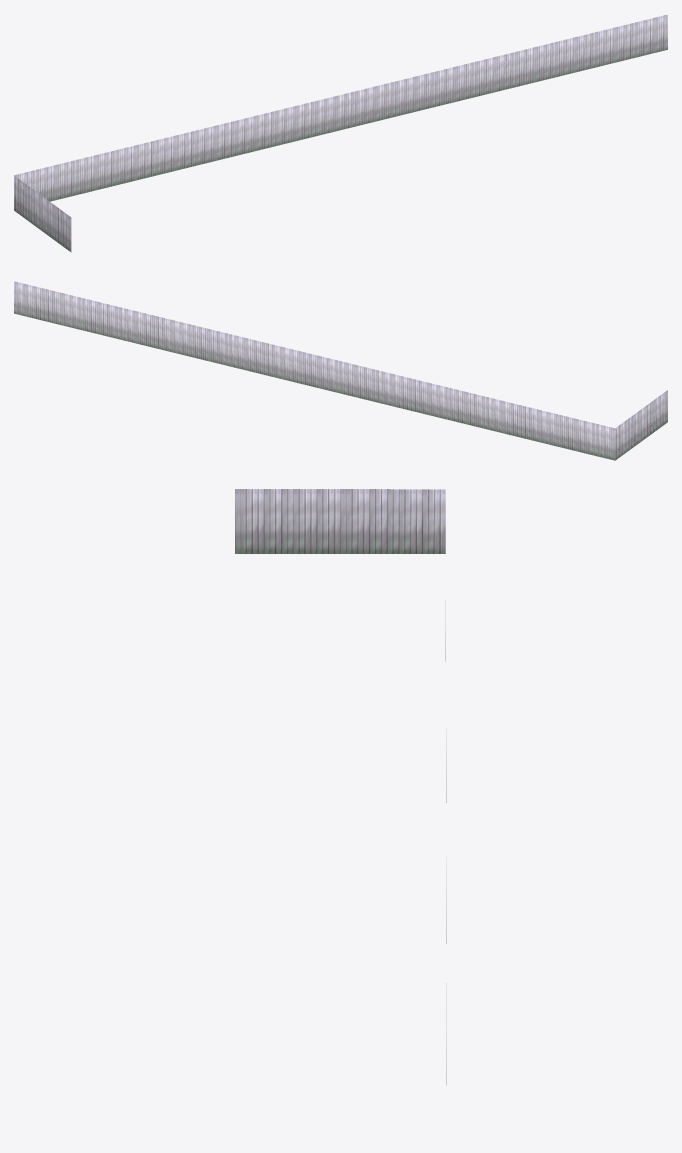
File: wall01.glb
3 views of the same model, one above another, from view 1: azimuth 30°, elevation 25°; view 2: azimuth 150°, elevation 25°; view 3: azimuth 270°, elevation 25° (orthographic). The views are drawn at different scales.
Visible parts, largest first — view 1: wall01; view 2: wall01; view 3: wall01.
Part boxes in pixels (x1=…): wall01: x1=14, y1=14, x2=667, y2=252; wall01: x1=14, y1=281, x2=667, y2=460; wall01: x1=235, y1=489, x2=446, y2=1084.
Size of the model in its own units: 5668 by 300 by 866.
Materials: 1 (1 with a texture image).
